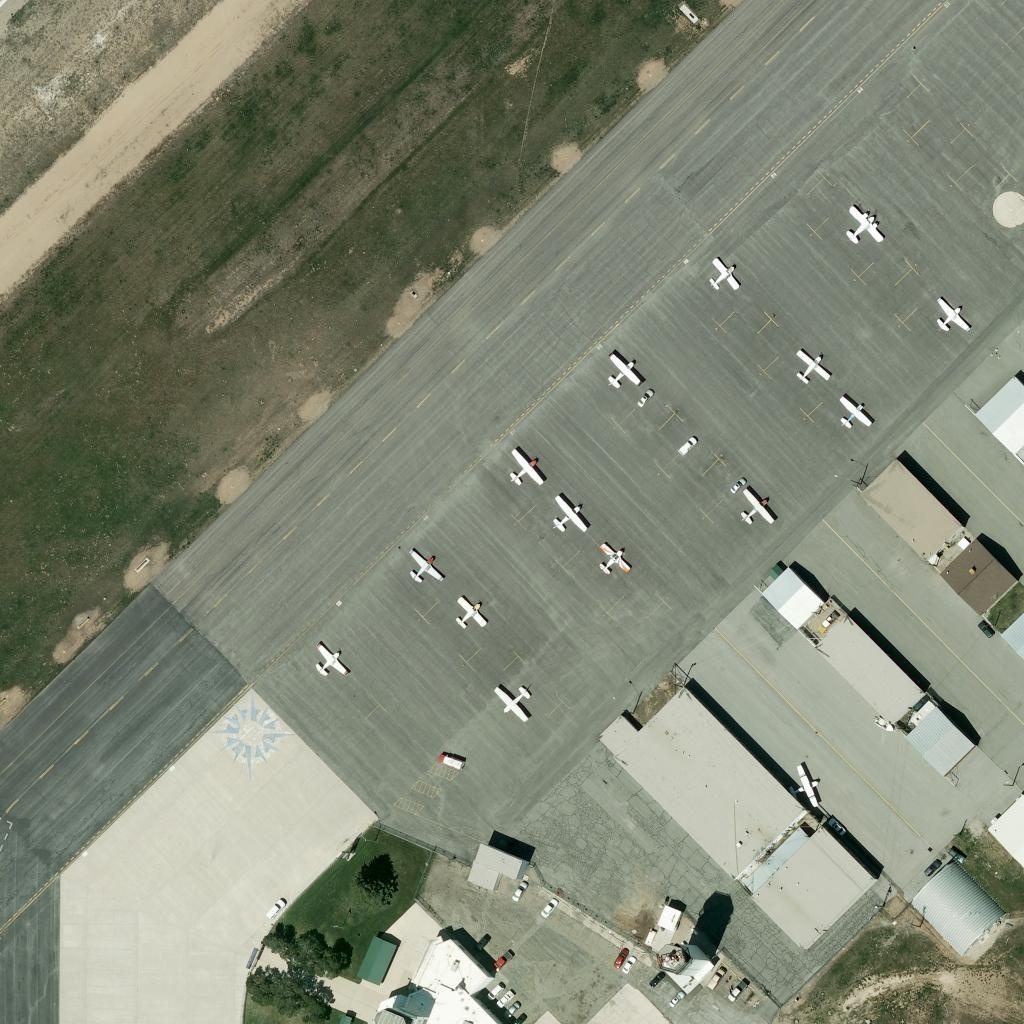plane: (787, 760, 824, 808), (844, 205, 885, 247), (932, 295, 973, 337), (313, 640, 350, 677), (494, 682, 531, 719), (452, 594, 489, 631), (406, 546, 443, 583), (507, 449, 544, 486), (550, 494, 587, 531), (594, 540, 631, 577), (606, 353, 643, 390), (738, 491, 775, 528), (835, 395, 872, 432), (705, 256, 742, 293), (795, 350, 832, 387)
